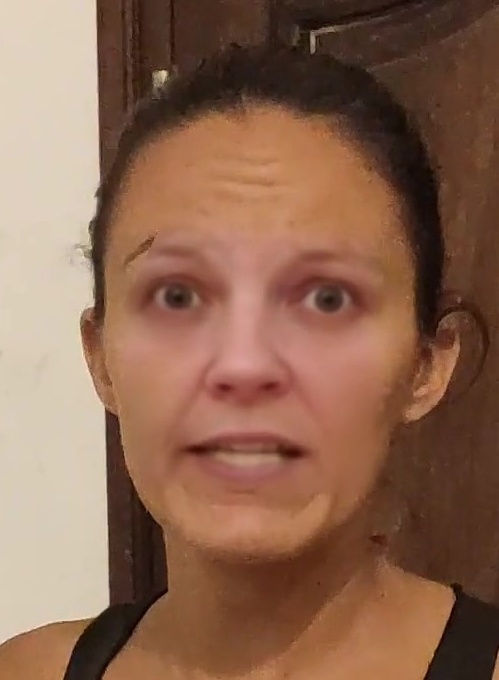eb_f: (118, 228, 398, 339)
